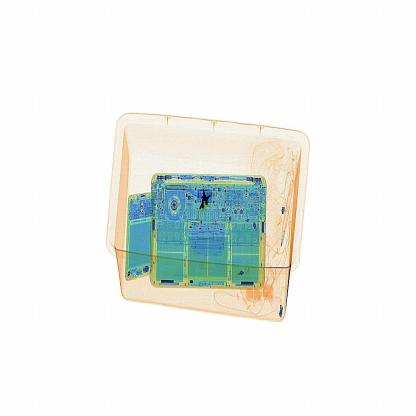gun: (188, 185, 226, 231)
